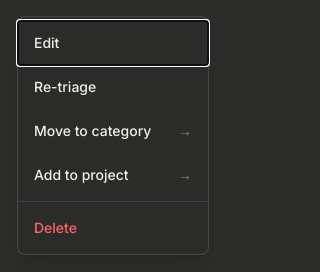
Scenario: ContextMenu — action routing (CTX-03..CTX-07, D-20) › Add to project empty state shows "No projects yet. Create one on the Projects tab." (UI-SPEC)
The image size is (320, 272).
Click the menu item "Add to project →" at (113, 175), box x1=18 y1=153 x2=208 y2=197
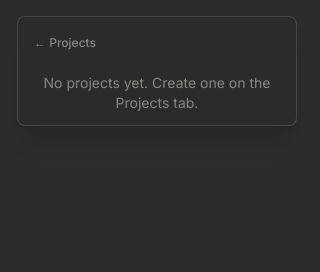
Check: the text "No projects yet. Create one on the Projects tab." is shown, box x1=44 y1=74 x2=270 y2=111
